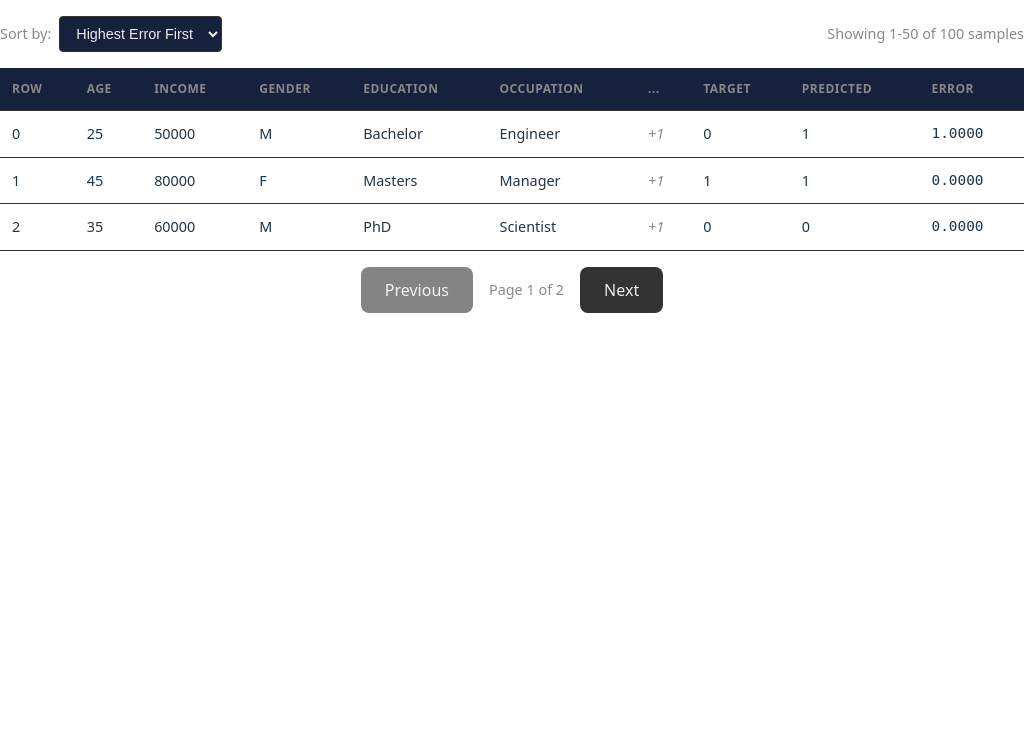
Test: ValidationSamplesTab › opens drawer with sample details when row is clicked
The image size is (1024, 756).
Expected: the text "25" is shown, [75,110,142,157]
Note: Click on the first row
Click the row "0 25 50000 M Bachelor Engineer +1 0 1 1.0000": coordinates (512, 134) [0,110,1023,157]
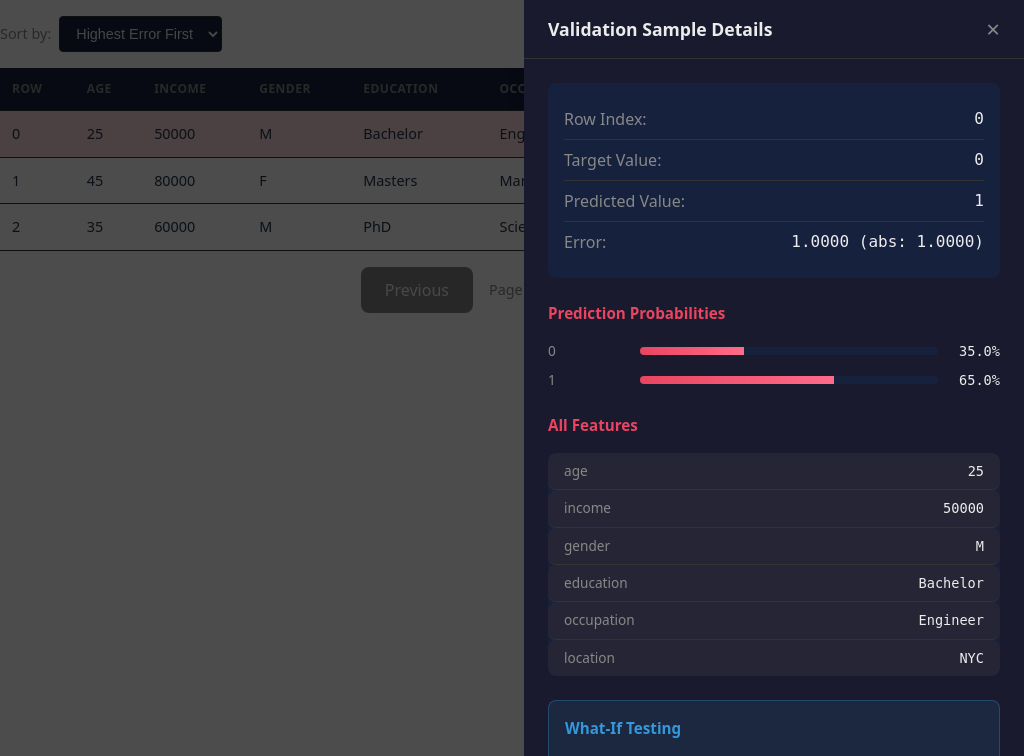
Result: the heading "Validation Sample Details" is shown at [548,16,772,42]
Result: the heading "All Features" is shown at [548,415,638,435]
Result: the text "location" is shown at [564,648,615,667]
